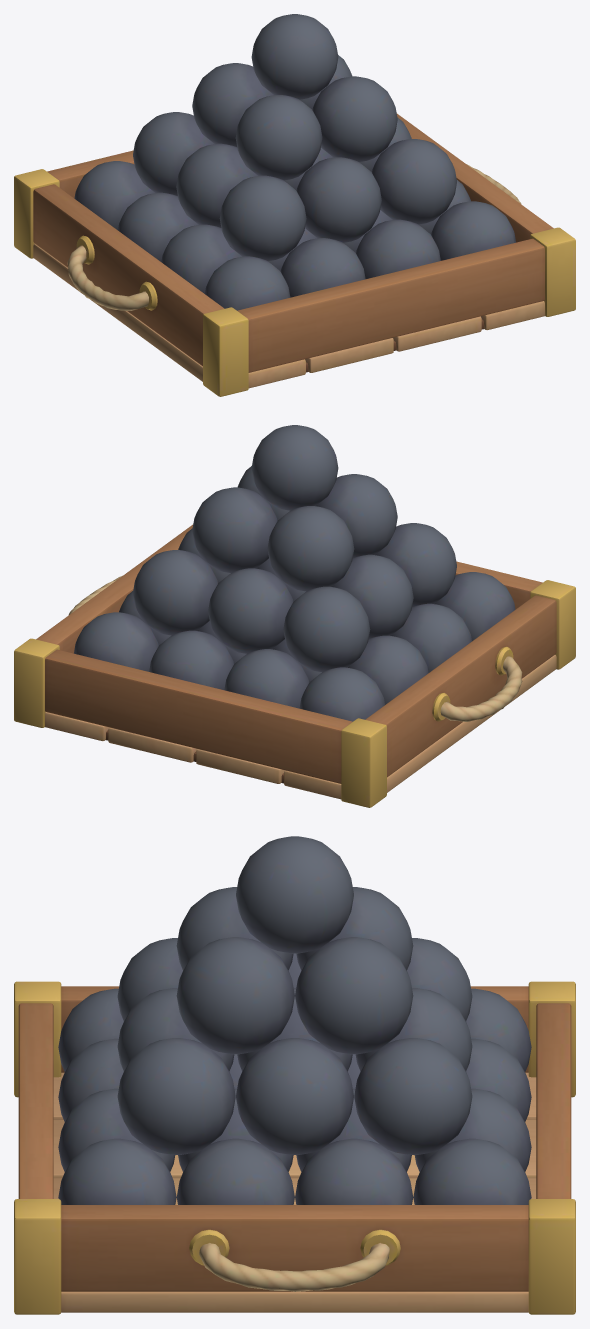
The model's file is projectile-ball.glb.
3 views of the same model, one above another, from view 1: azimuth 30°, elevation 25°; view 2: azimuth 150°, elevation 25°; view 3: azimuth 270°, elevation 25° (orthographic). The views are drawn at different scales.
Visible parts, largest first — view 1: cannonball-pile_body; view 2: cannonball-pile_body; view 3: cannonball-pile_body.
Part boxes in pixels (x1=…): cannonball-pile_body: x1=14, y1=14, x2=575, y2=396; cannonball-pile_body: x1=14, y1=425, x2=575, y2=807; cannonball-pile_body: x1=14, y1=836, x2=575, y2=1314.
Size of the model in its own units: 0.8494 by 0.5044 by 0.722.
Materials: 1 (1 with a texture image).
